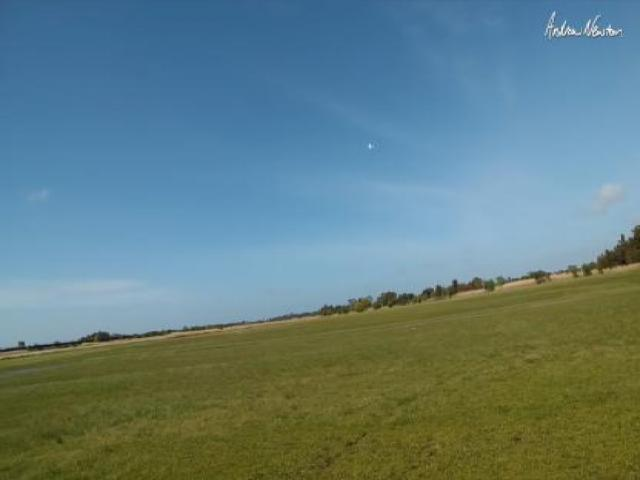uav: (364, 138, 376, 152)
